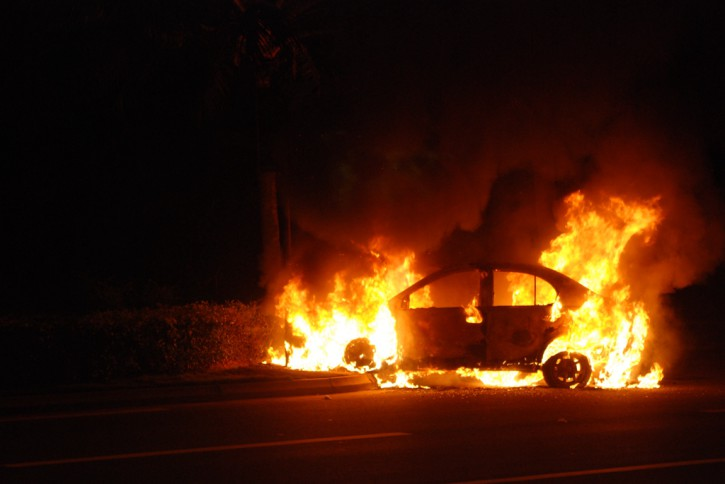fire: (512, 177, 678, 386), (261, 235, 436, 374)
